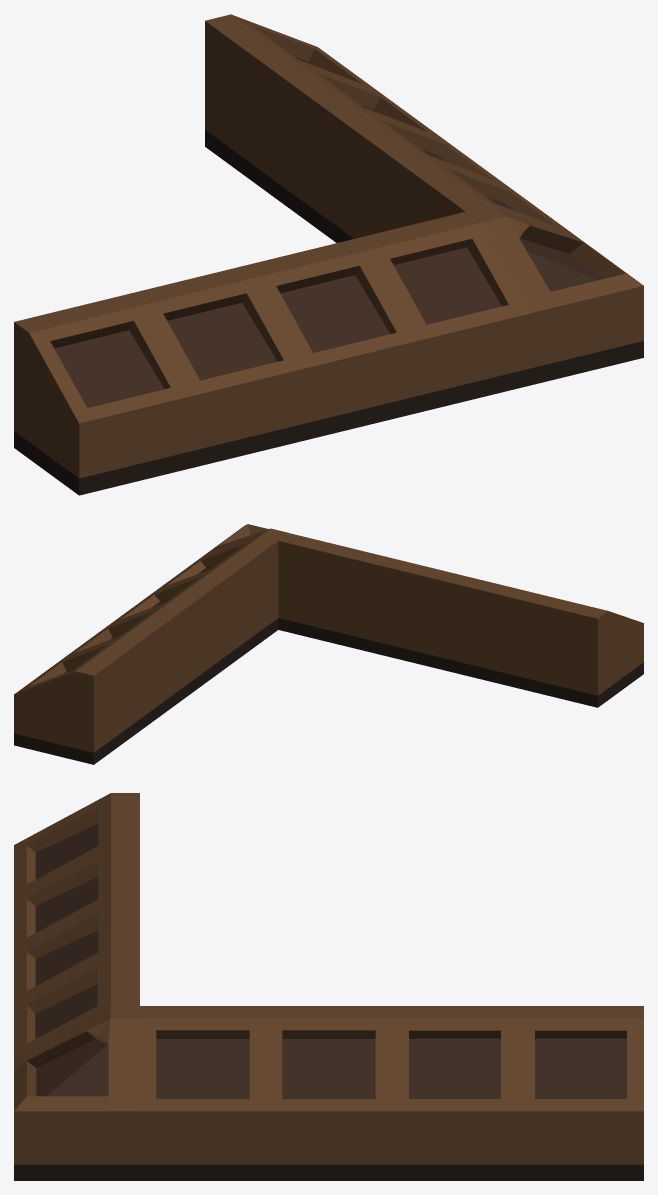
The model's file is backAngle4.fbx.
3 views of the same model, one above another, from view 1: azimuth 30°, elevation 25°; view 2: azimuth 150°, elevation 25°; view 3: azimuth 270°, elevation 25° (orthographic). The views are drawn at different scales.
Visible parts, largest first — view 1: Cube.020; view 2: Cube.020; view 3: Cube.020.
Part boxes in pixels (x1,y1,x2,y2): Cube.020: (14, 14, 643, 495); Cube.020: (14, 524, 643, 764); Cube.020: (14, 793, 643, 1180).
Bounding box in the file's own units: 500 × 107 × 500.
